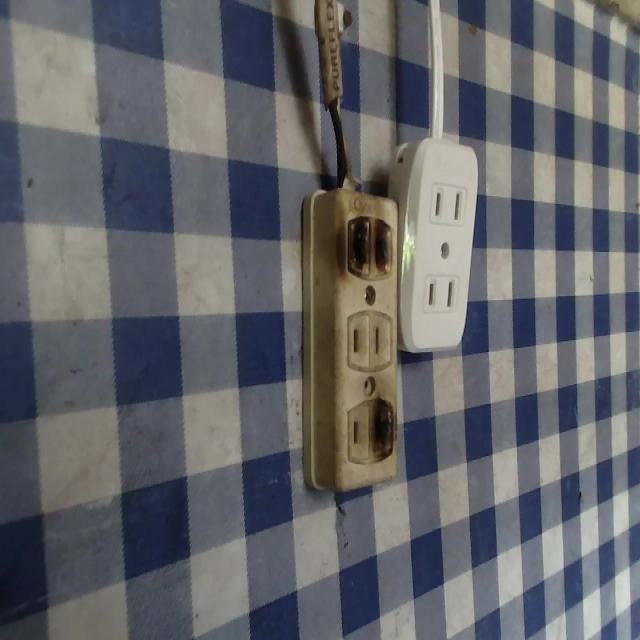-: (343, 212, 397, 280), (369, 400, 397, 461)
